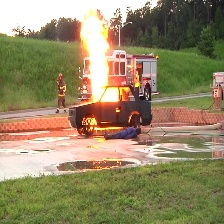fire: (79, 10, 128, 110)
